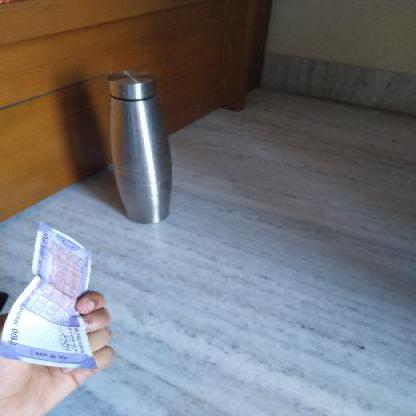New100Back: (0, 222, 92, 368)
